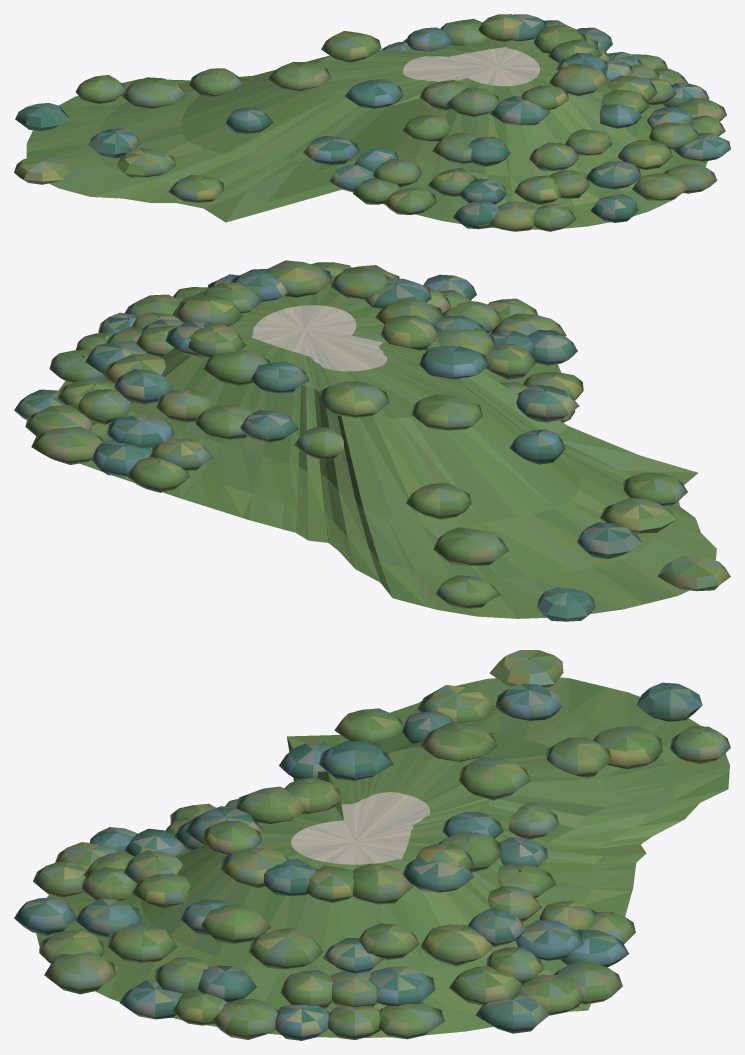
File: HK_Terrain_Hikone.lod.glb
The picture shows the model from 3 angles, top to bottom: view 1: azimuth 30°, elevation 25°; view 2: azimuth 150°, elevation 25°; view 3: azimuth 270°, elevation 25°; orthographic projection. The views are drawn at different scales.
Parts seen in each view (by area): view 1: HK_Terrain_Hikone; view 2: HK_Terrain_Hikone; view 3: HK_Terrain_Hikone.
Part boxes in pixels (x1,y1,x2,y2): HK_Terrain_Hikone: (14,14,730,231); HK_Terrain_Hikone: (14,260,730,621); HK_Terrain_Hikone: (14,650,730,1040).
Size of the model in its own units: 483 by 62.9 by 380.
